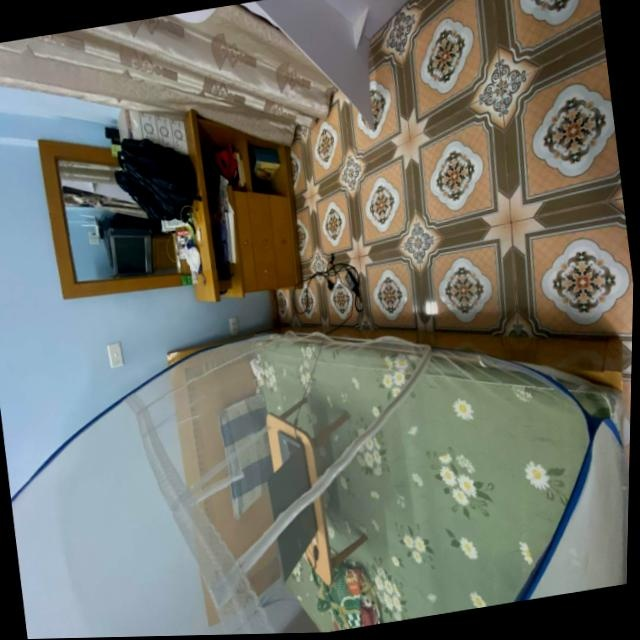outlet: (227, 316, 240, 335)
